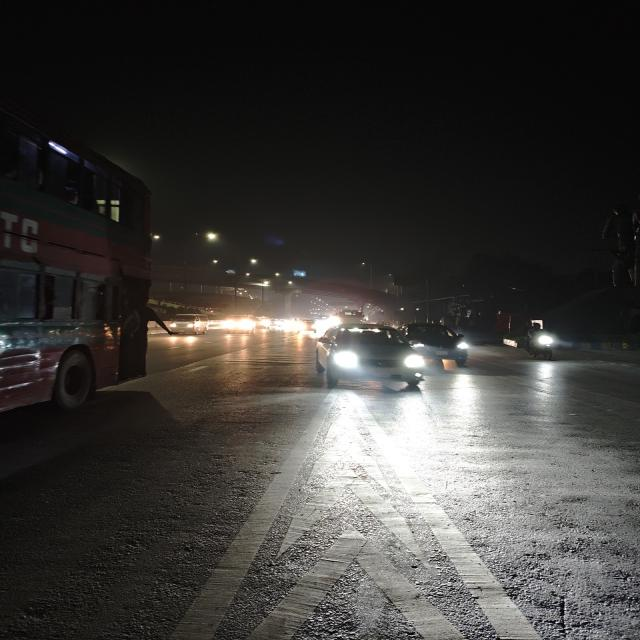bus: (0, 22, 157, 419)
car: (308, 323, 428, 394), (407, 320, 476, 370), (160, 307, 212, 337)
motorcycle: (518, 316, 560, 364)
